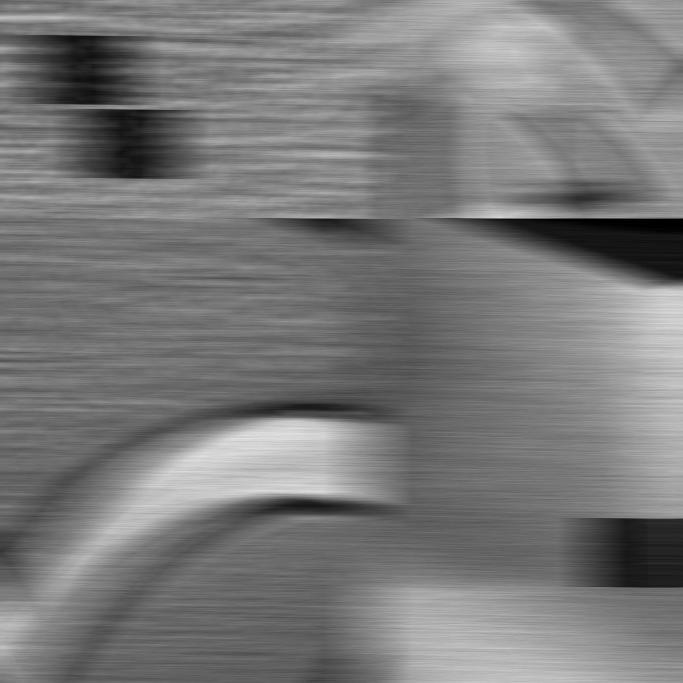Airbag: (0, 218, 379, 683), (357, 218, 683, 683), (0, 0, 379, 218), (357, 0, 683, 218)
